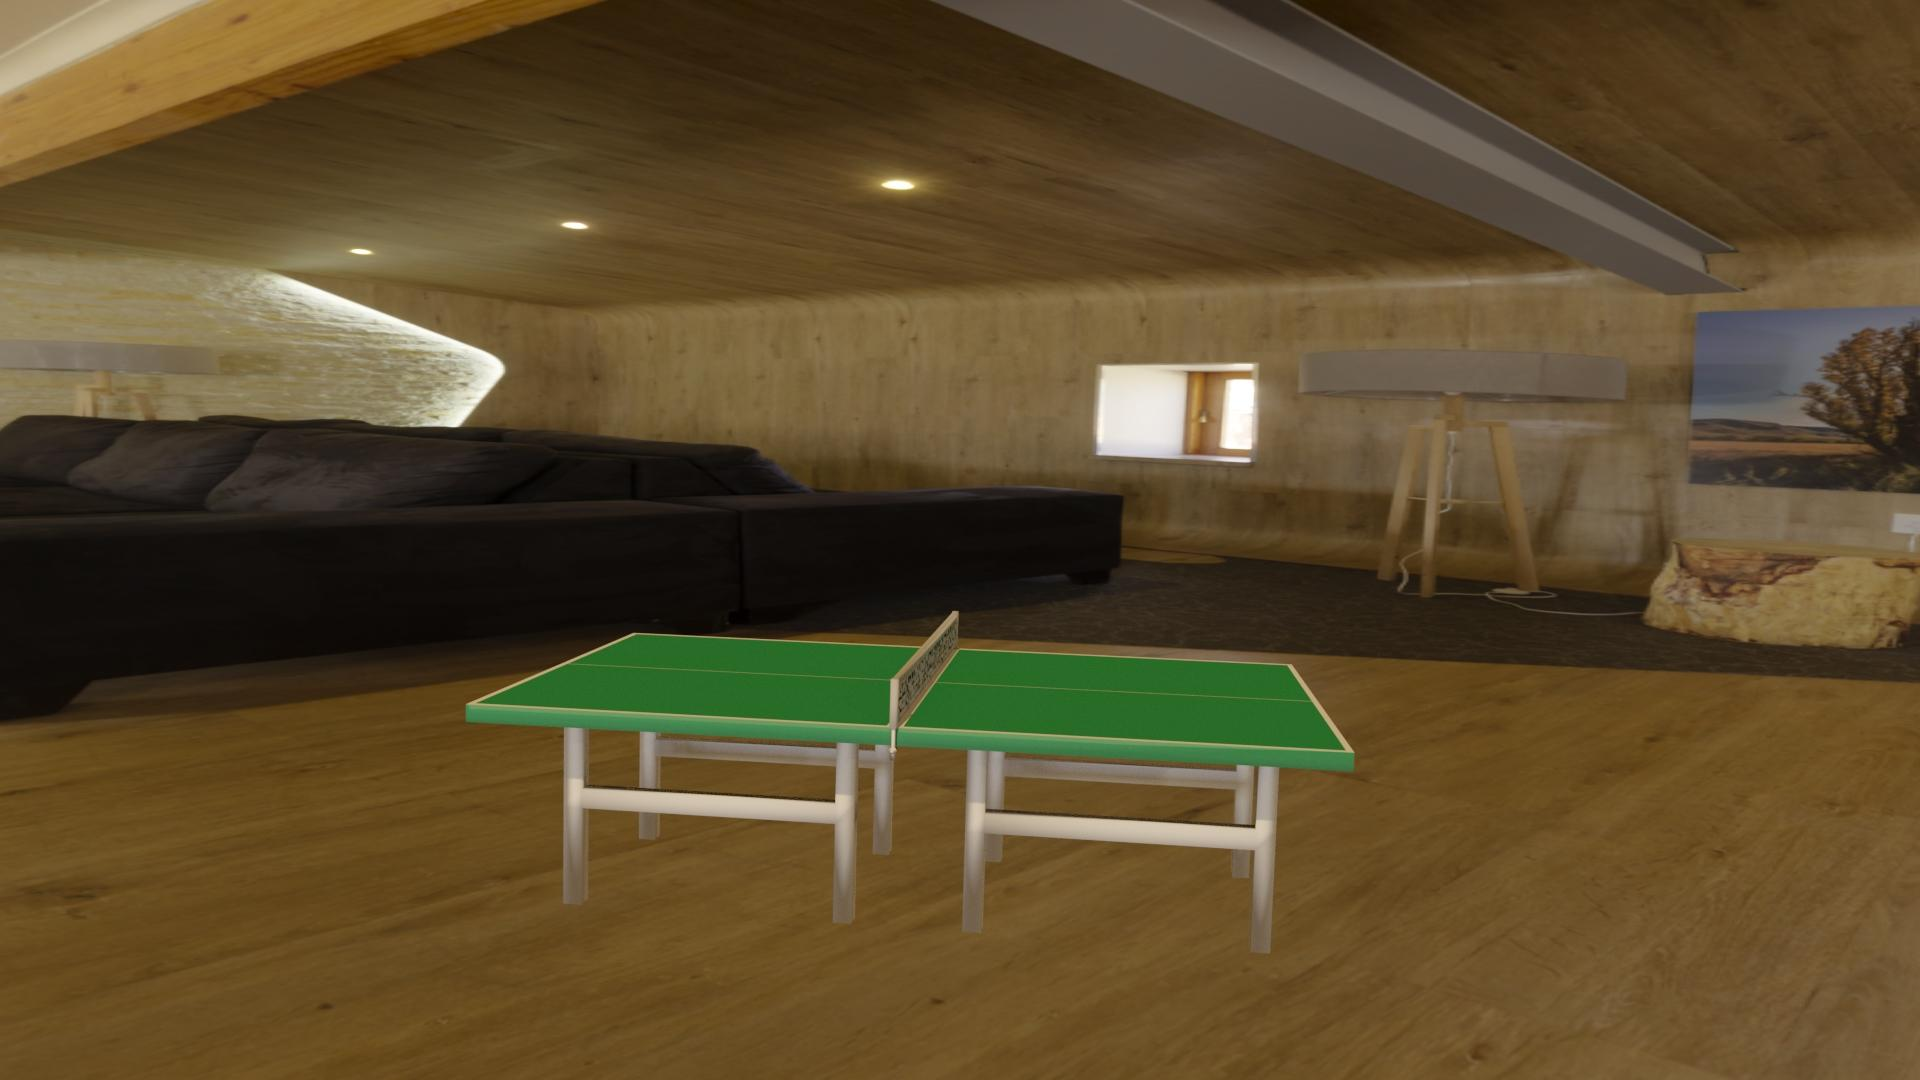table: (475, 634, 1346, 750)
